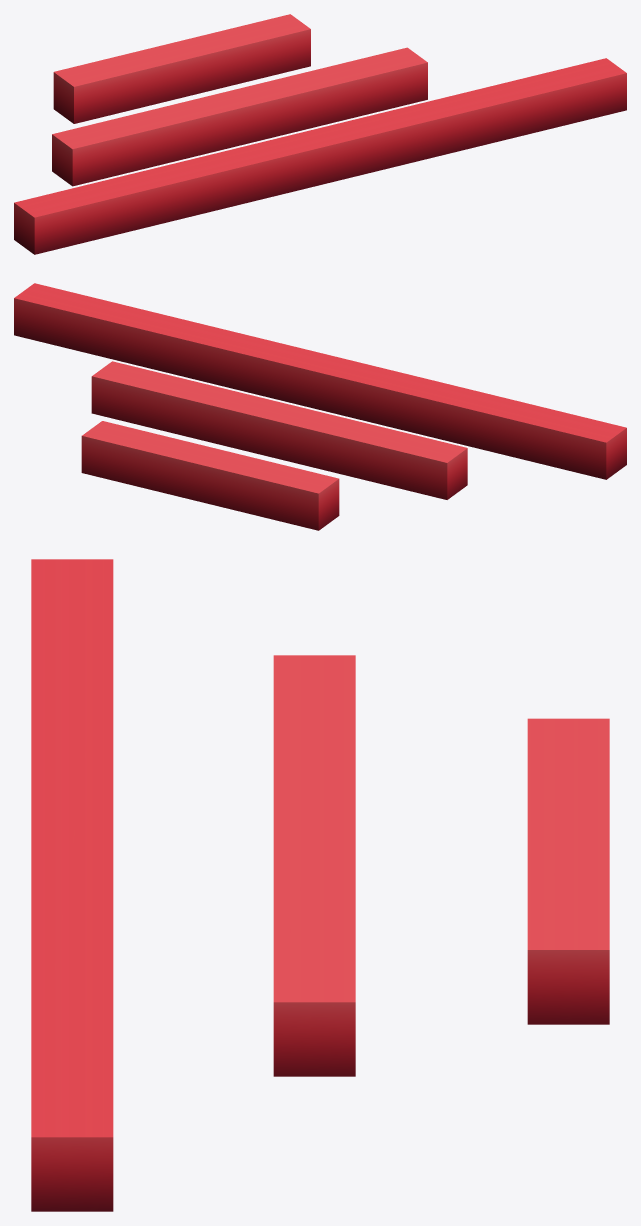
Rendered from Lazer_small.fbx.
The picture shows the model from 3 angles, top to bottom: view 1: azimuth 30°, elevation 25°; view 2: azimuth 150°, elevation 25°; view 3: azimuth 270°, elevation 25°; orthographic projection. The views are drawn at different scales.
Parts seen in each view (by area): view 1: Plane.022, Plane.007, Plane.023; view 2: Plane.022, Plane.007, Plane.023; view 3: Plane.022, Plane.007, Plane.023.
Part boxes in pixels (x1,y1,x2,y2): Plane.022: (14, 58, 626, 254); Plane.007: (52, 47, 427, 186); Plane.023: (53, 14, 310, 123); Plane.022: (14, 283, 626, 479); Plane.007: (91, 361, 467, 499); Plane.023: (81, 421, 339, 530); Plane.022: (31, 559, 113, 1211); Plane.007: (273, 655, 355, 1076); Plane.023: (527, 718, 609, 1024).
Bounding box in the file's own units: 500 × 30 × 211.
